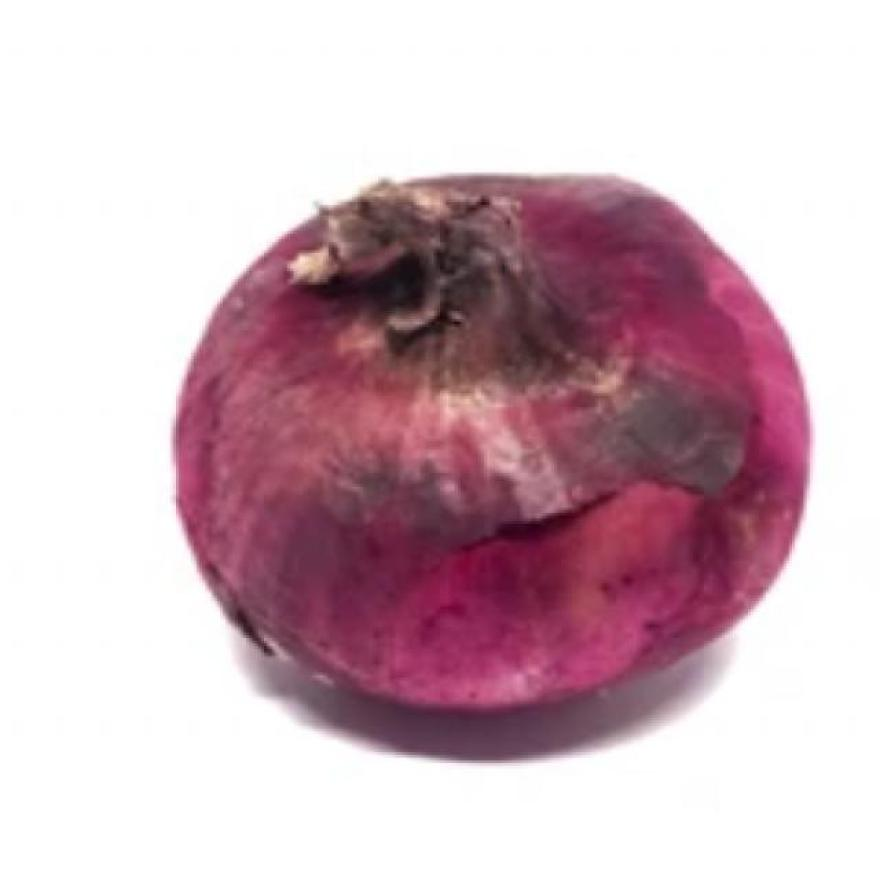Rotten: (343, 386, 716, 659)
